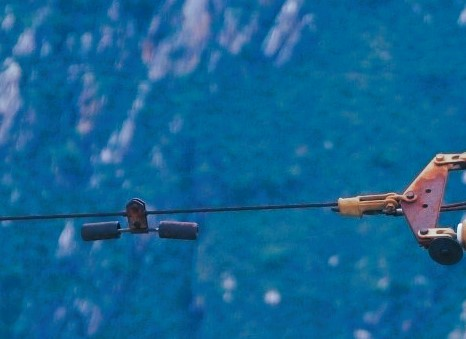Shockproof hammer: (75, 192, 205, 246)
